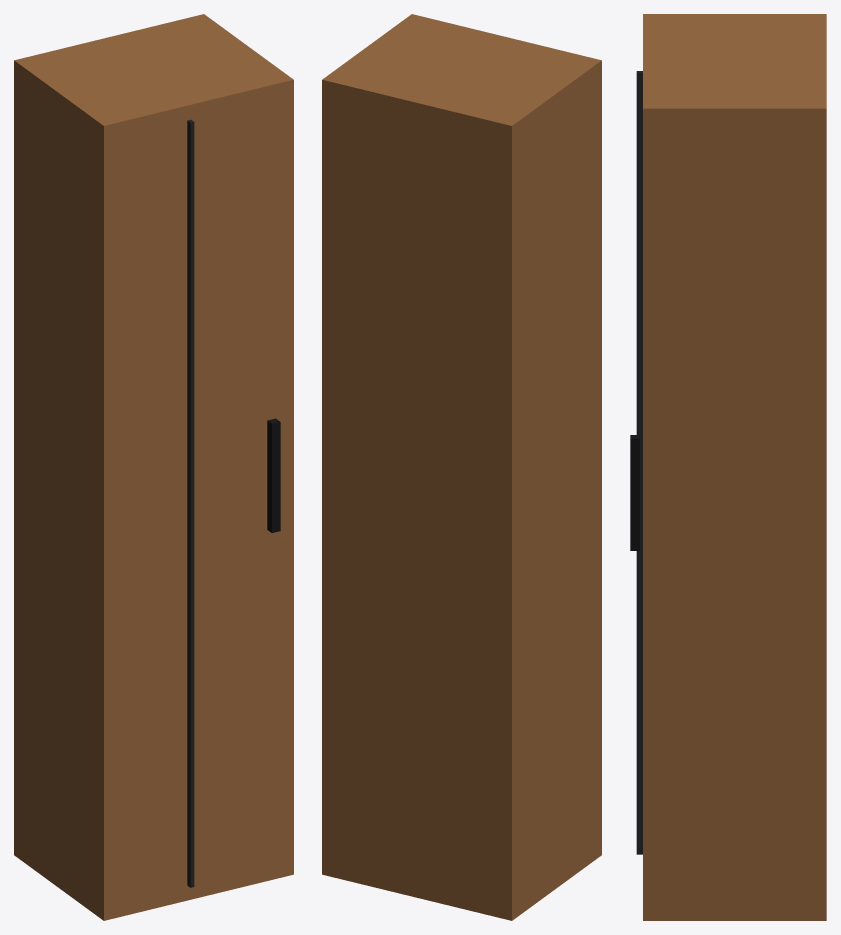
File: BTH-0041.glb
The picture shows the model from 3 angles, left to right: view 1: azimuth 30°, elevation 25°; view 2: azimuth 150°, elevation 25°; view 3: azimuth 270°, elevation 25°; orthographic projection. The views are drawn at different scales.
Visible parts, largest first — view 1: BTH-0041_Hoge_kast_400x1600; view 2: BTH-0041_Hoge_kast_400x1600; view 3: BTH-0041_Hoge_kast_400x1600.
Part boxes in pixels (bbox=[...]): BTH-0041_Hoge_kast_400x1600: bbox=[14, 14, 293, 920]; BTH-0041_Hoge_kast_400x1600: bbox=[322, 14, 601, 920]; BTH-0041_Hoge_kast_400x1600: bbox=[630, 14, 826, 920].
Size of the model in its own units: 0.4 by 1.6 by 0.35.
